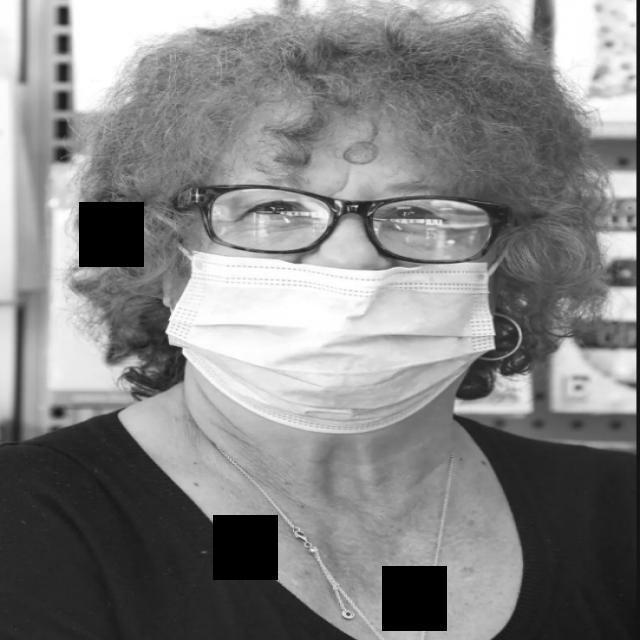hairnet: (153, 222, 503, 436)
